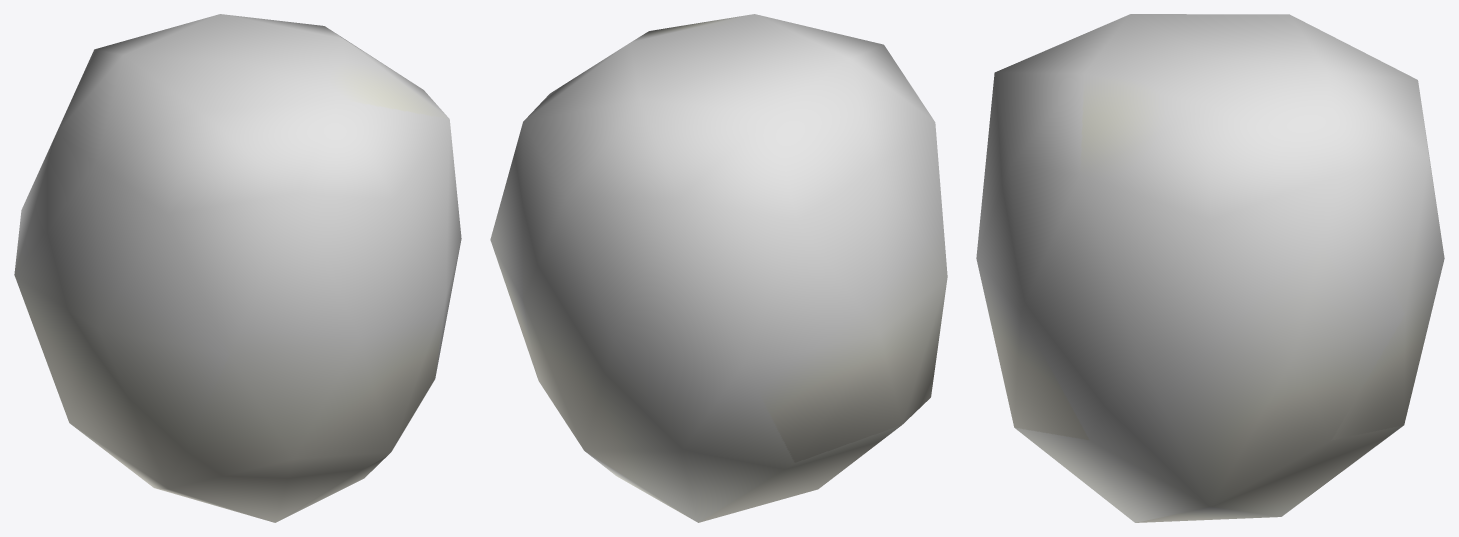
The model's file is Hold_Snowball.fbx.
3 views of the same model, side by side, from view 1: azimuth 30°, elevation 25°; view 2: azimuth 150°, elevation 25°; view 3: azimuth 270°, elevation 25° (orthographic). The views are drawn at different scales.
Visible parts, largest first — view 1: Hold_Snowball; view 2: Hold_Snowball; view 3: Hold_Snowball.
Boxes of the visible parts, bbox=[...] form: Hold_Snowball: bbox=[14, 14, 461, 522]; Hold_Snowball: bbox=[490, 14, 947, 522]; Hold_Snowball: bbox=[976, 14, 1444, 522].
Bounding box in the file's own units: 0.1 × 0.1 × 0.1.
1 material, 1 textured.
